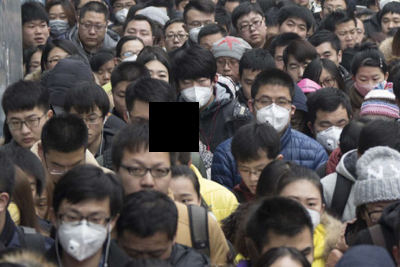with_mask: (59, 205, 111, 264), (253, 94, 293, 135), (282, 194, 322, 232), (314, 115, 350, 152), (178, 77, 214, 111), (186, 18, 215, 44), (356, 72, 385, 98), (48, 12, 70, 37), (113, 1, 136, 24)
without_mask: (116, 155, 172, 198), (6, 111, 43, 148), (236, 161, 273, 195), (42, 157, 85, 186), (112, 85, 149, 118), (70, 111, 104, 145), (237, 15, 268, 46), (78, 17, 106, 46), (22, 20, 49, 46), (216, 57, 241, 84), (163, 29, 189, 53), (286, 60, 311, 84), (335, 27, 359, 52), (124, 27, 153, 47), (281, 19, 308, 40), (381, 14, 400, 34), (97, 66, 115, 86)
